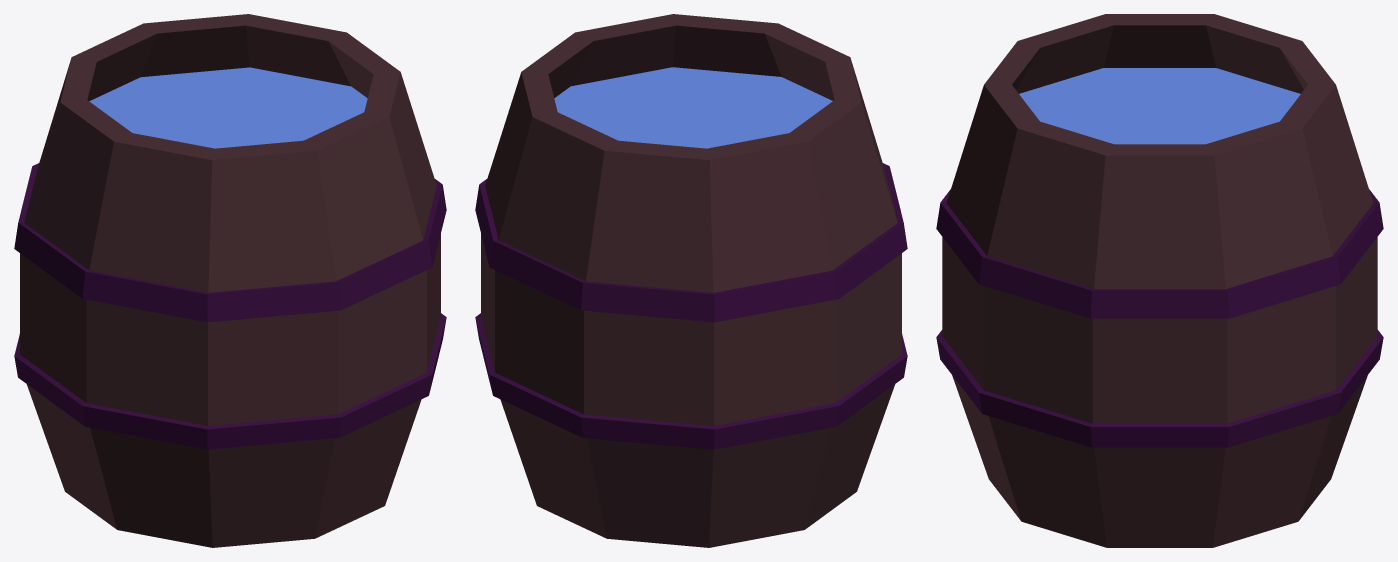
Rendered from barrel.glb.
3 views of the same model, side by side, from view 1: azimuth 30°, elevation 25°; view 2: azimuth 150°, elevation 25°; view 3: azimuth 270°, elevation 25° (orthographic).
Parts seen in each view (by area): view 1: Cylinder.002; view 2: Cylinder.002; view 3: Cylinder.002.
Part boxes in pixels (x1,y1,x2,y2): Cylinder.002: (14,14,446,547); Cylinder.002: (475,14,907,547); Cylinder.002: (936,14,1383,547).
Bounding box in the file's own units: 1.96 × 2 × 2.06.
